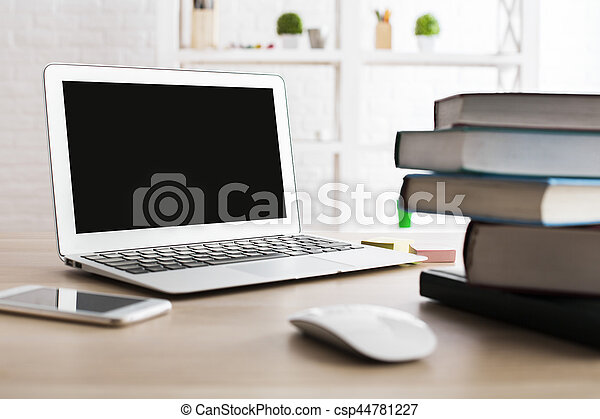Cell Phone: (1, 283, 172, 329)
